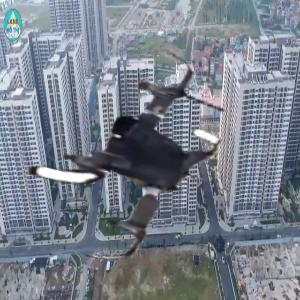drone: (2, 31, 239, 268)
